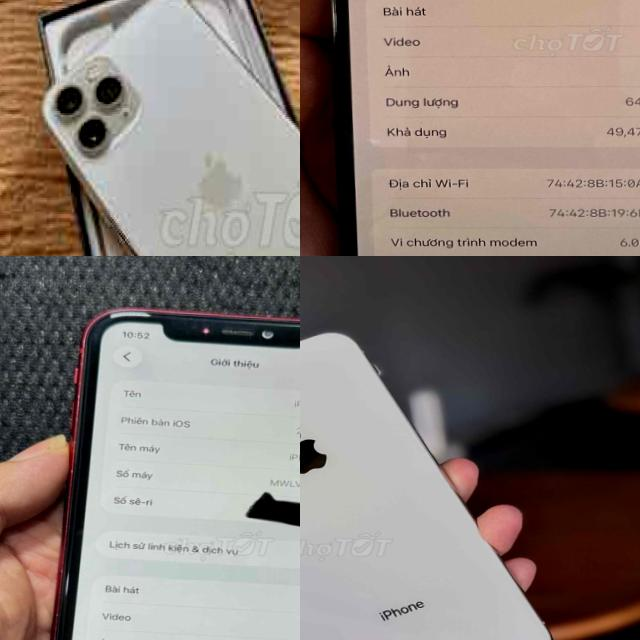gen_11: (303, 0, 640, 256), (52, 309, 300, 640), (34, 0, 300, 256)
gen_x_xs: (300, 333, 550, 640)
